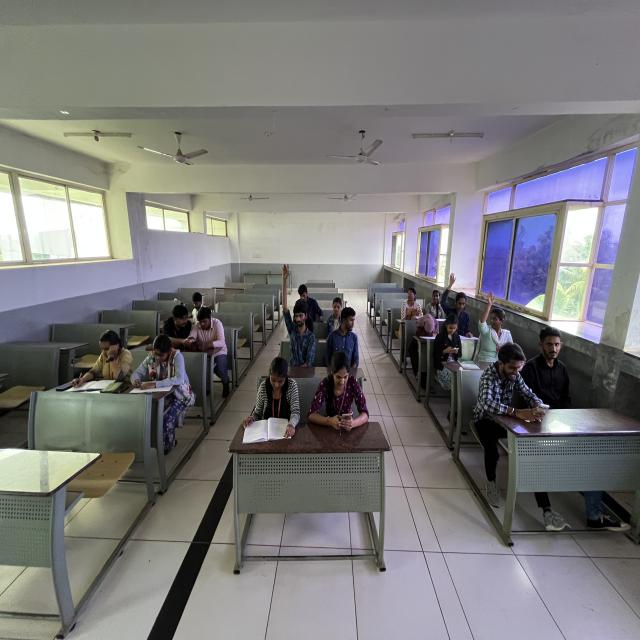Hand Rising: (255, 250, 318, 360), (473, 276, 512, 356), (439, 269, 478, 339)
Reading: (240, 354, 299, 446)
Sleeping: (409, 308, 442, 351)
Using Phone: (476, 340, 550, 449), (306, 350, 376, 443), (188, 302, 224, 360), (433, 310, 465, 370)
Writing: (130, 332, 181, 401), (70, 326, 121, 390)
